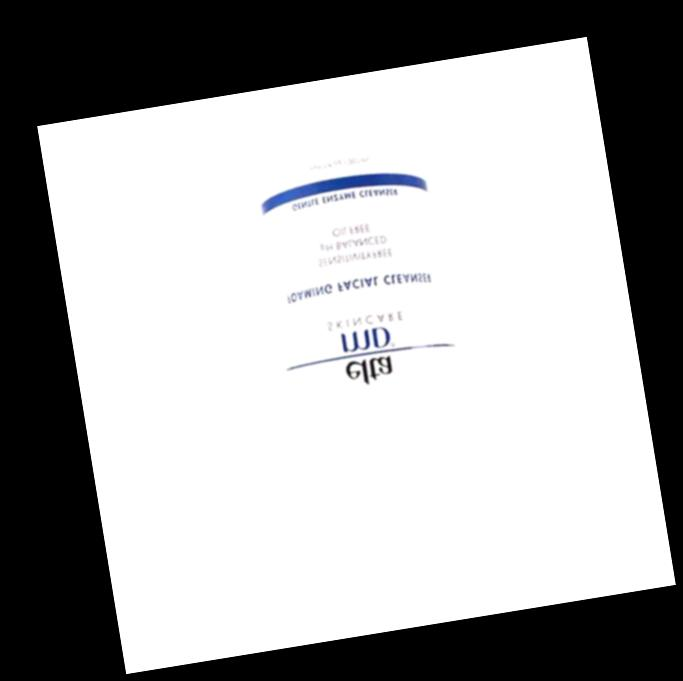cosmetic: (253, 111, 492, 593)
